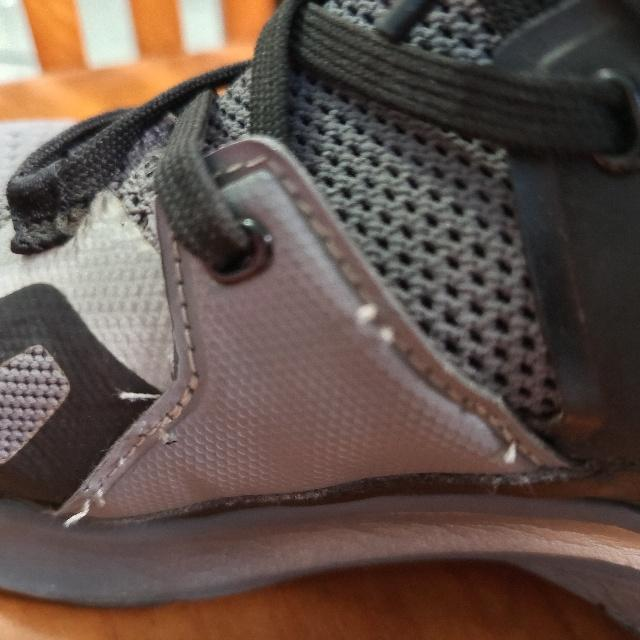broken: (55, 476, 114, 530), (350, 296, 394, 350)
